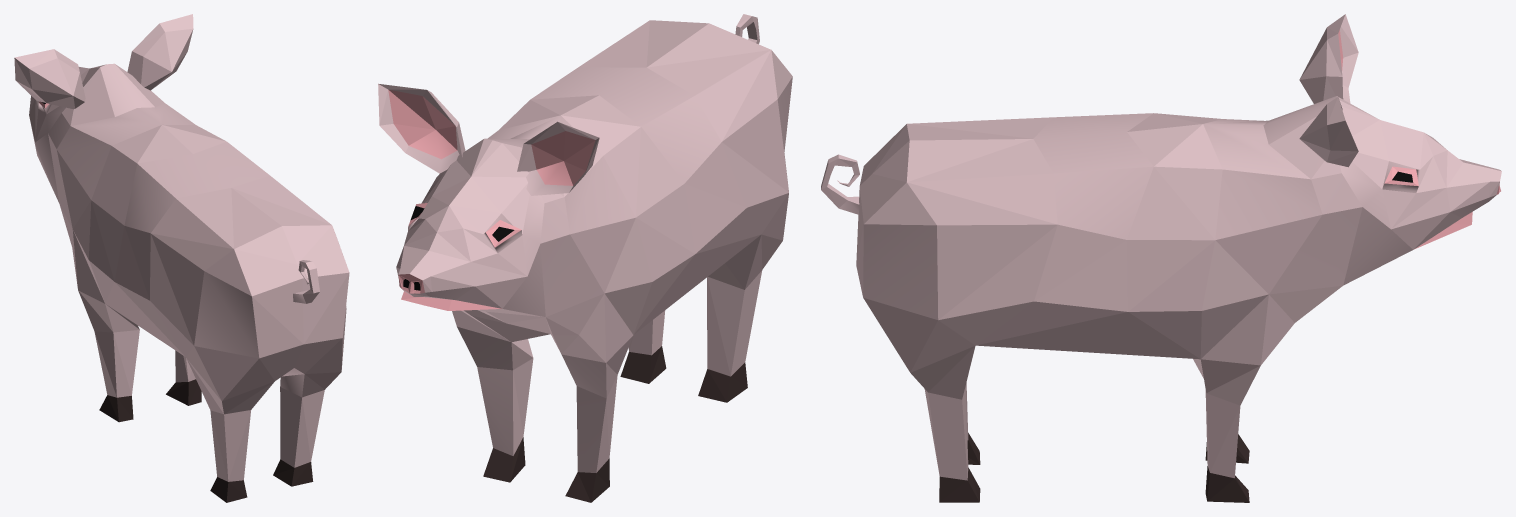
Rendered from Schwein.FBX.
3 renders of one model, left to right at view 1: azimuth 30°, elevation 25°; view 2: azimuth 150°, elevation 25°; view 3: azimuth 270°, elevation 25°, orthographic. The views are drawn at different scales.
Parts seen in each view (by area): view 1: Schwein_Koerper; view 2: Schwein_Koerper; view 3: Schwein_Koerper.
Part boxes in pixels (x1,y1,x2,y2): Schwein_Koerper: (14,14,349,502); Schwein_Koerper: (378,14,792,502); Schwein_Koerper: (821,14,1501,502).
Bounding box in the file's own units: 8.1 × 14.6 × 21.88.
